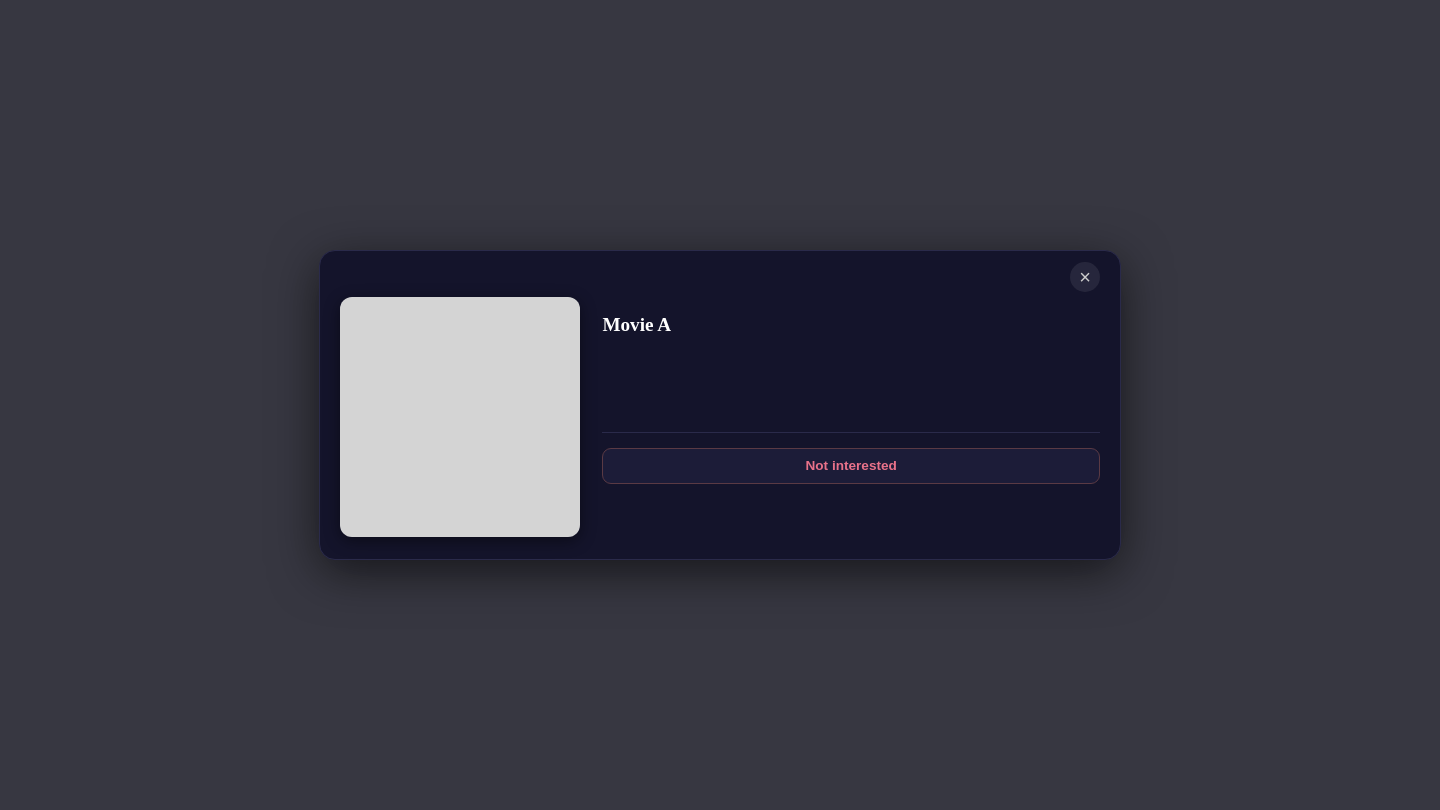
Test: DetailModal dismiss-reason tiles › hides the reason tiles again after undoing the dismiss
Click the button "Not interested" at [851, 466], box [602,448,1100,484]
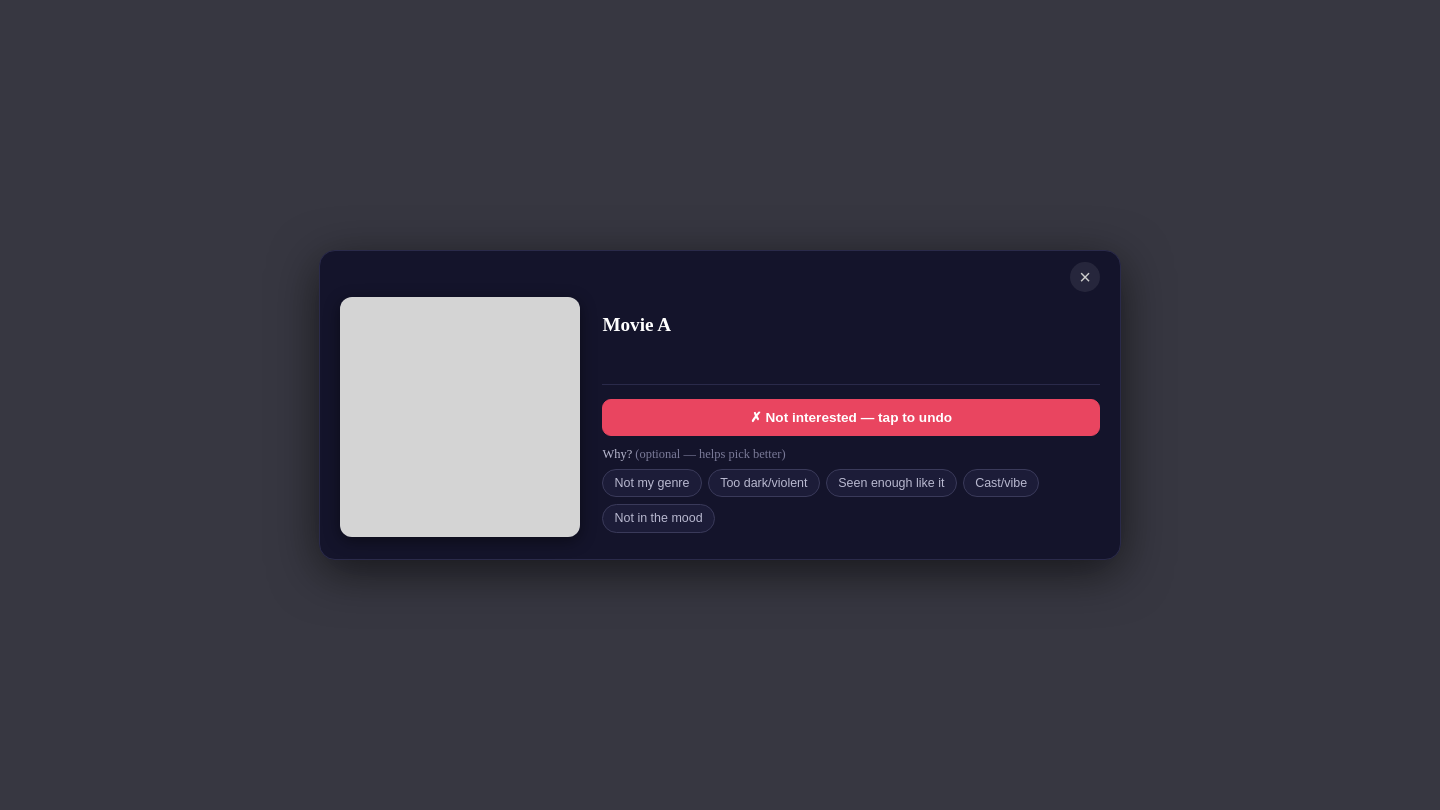
Click the button "✗ Not interested — tap to undo" at [851, 418], box [602,399,1100,436]
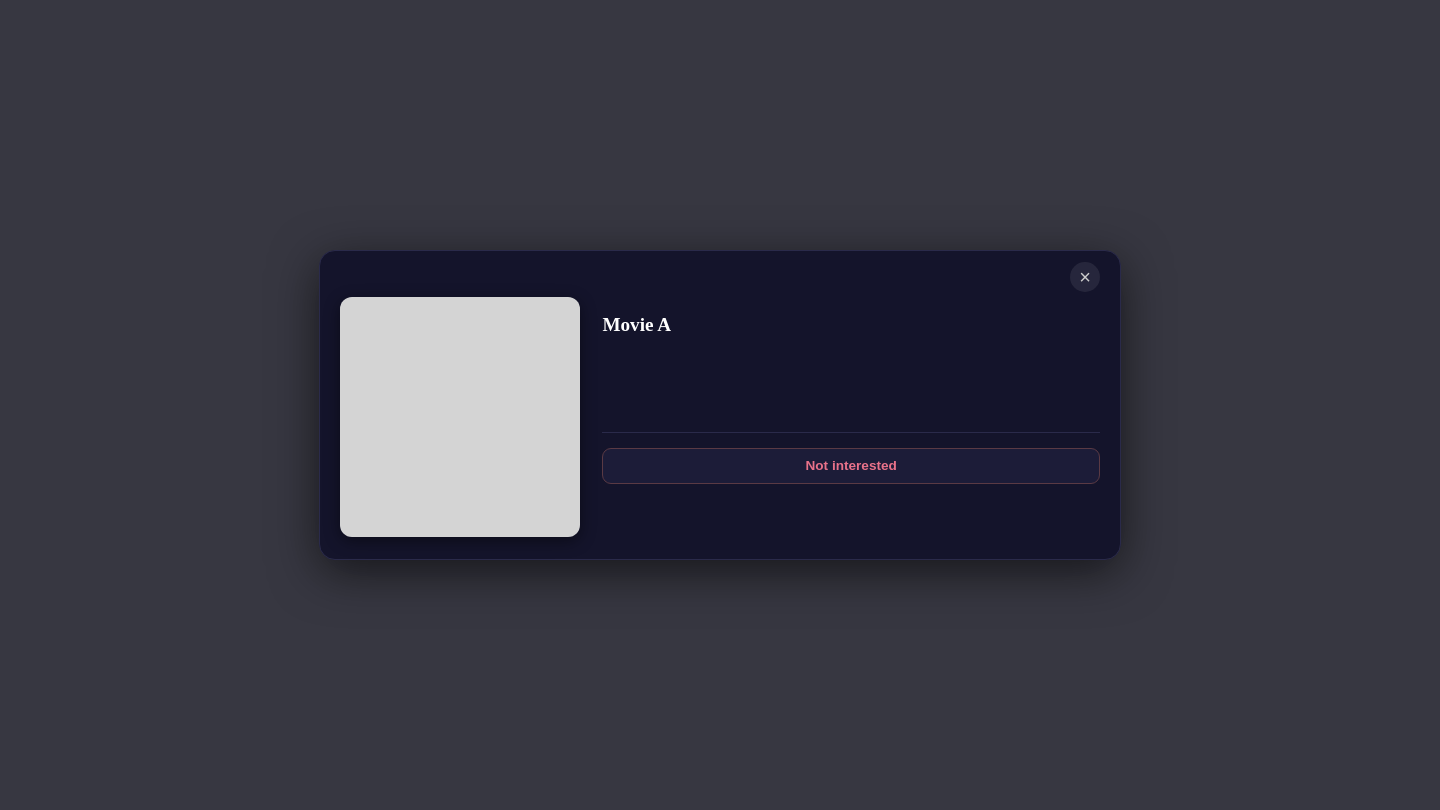
Result: the button "Not my genre" is gone
